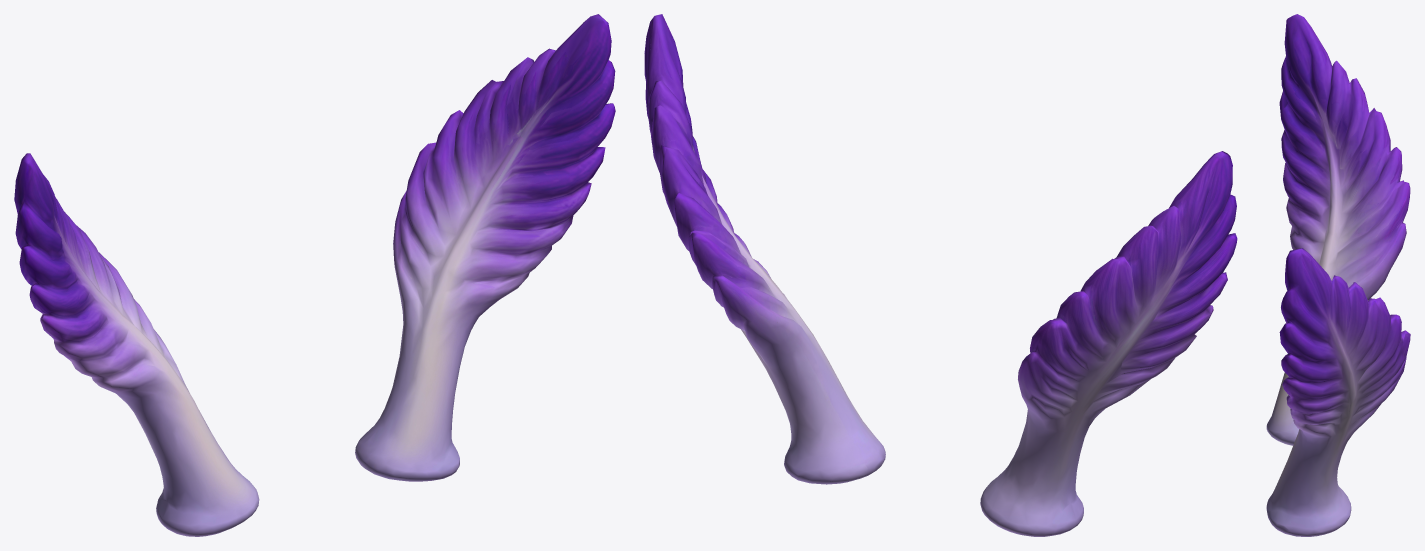
Rendered from rhino_base.glb.
3 renders of one model, left to right at view 1: azimuth 30°, elevation 25°; view 2: azimuth 150°, elevation 25°; view 3: azimuth 270°, elevation 25°, orthographic. The views are drawn at different scales.
Parts seen in each view (by area): view 1: tripo_node_8ca76ae3-e3b7-4d14-b35b-7f2ddad32a50; view 2: tripo_node_8ca76ae3-e3b7-4d14-b35b-7f2ddad32a50; view 3: tripo_node_8ca76ae3-e3b7-4d14-b35b-7f2ddad32a50.
Part boxes in pixels (x1=…): tripo_node_8ca76ae3-e3b7-4d14-b35b-7f2ddad32a50: x1=14, y1=14, x2=615, y2=536; tripo_node_8ca76ae3-e3b7-4d14-b35b-7f2ddad32a50: x1=644, y1=14, x2=1237, y2=536; tripo_node_8ca76ae3-e3b7-4d14-b35b-7f2ddad32a50: x1=1266, y1=14, x2=1410, y2=536.
Size of the model in its own units: 0.9814 by 0.6567 by 0.2449.
1 material, 1 textured.
